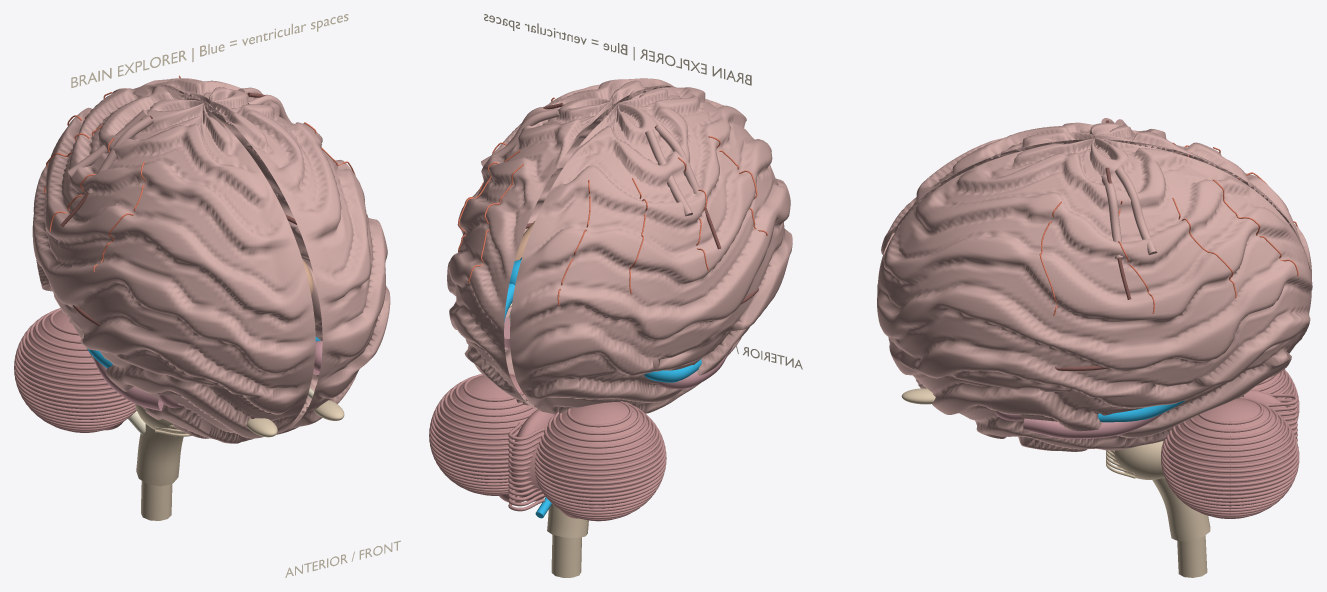
File: humanbrain.glb
3 views of the same model, side by side, from view 1: azimuth 30°, elevation 25°; view 2: azimuth 150°, elevation 25°; view 3: azimuth 270°, elevation 25° (orthographic). The views are drawn at different scales.
Parts seen in each view (by area): view 1: Left cortical mantle, Right cortical mantle, Cerebellar hemisphere.001, Medulla oblongata, BRAIN EXPLORER | Blue = ventricular spaces, Spinal cord, Hippocampus, Precentral gyrus, Postcentral gyrus, ANTERIOR / FRONT; view 2: Left cortical mantle, Right cortical mantle, Cerebellar hemisphere.001, Cerebellar hemisphere, Cerebellar vermis, BRAIN EXPLORER | Blue = ventricular spaces, Spinal cord, Medulla oblongata, Postcentral gyrus, Postcentral gyrus.001, Precentral gyrus, Inferior temporal horn (+14 smaller); view 3: Right cortical mantle, Left cortical mantle, Cerebellar hemisphere, Medulla oblongata, Hippocampus.001, Pons, Spinal cord, Postcentral gyrus.001, Inferior temporal horn.001, Precentral gyrus.001, Cerebellar folium.037, Cerebellar folium.036.
Part boxes in pixels (box(x1,y1,x2,y2)): Left cortical mantle: box(32, 85, 315, 443); Right cortical mantle: box(140, 78, 390, 434); Cerebellar hemisphere.001: box(20, 310, 129, 419); Medulla oblongata: box(136, 424, 183, 486); BRAIN EXPLORER | Blue = ventricular spaces: box(71, 14, 348, 87); Spinal cord: box(141, 481, 172, 520); Hippocampus: box(92, 355, 163, 410); Precentral gyrus: box(87, 115, 153, 193); Postcentral gyrus: box(67, 109, 147, 177); ANTERIOR / FRONT: box(285, 540, 400, 577); Left cortical mantle: box(510, 87, 792, 414); Right cortical mantle: box(447, 78, 676, 409); Cerebellar hemisphere.001: box(538, 402, 660, 508); Cerebellar hemisphere: box(434, 375, 536, 483); Cerebellar vermis: box(510, 409, 553, 501); BRAIN EXPLORER | Blue = ventricular spaces: box(484, 14, 751, 85); Spinal cord: box(551, 534, 581, 577); Medulla oblongata: box(547, 504, 588, 537); Postcentral gyrus: box(645, 129, 692, 216); Postcentral gyrus.001: box(481, 107, 559, 166); Precentral gyrus: box(655, 124, 706, 207); Inferior temporal horn: box(644, 359, 701, 382); Right cortical mantle: box(877, 138, 1312, 451); Left cortical mantle: box(877, 122, 1311, 292); Cerebellar hemisphere: box(1165, 398, 1294, 509); Medulla oblongata: box(1152, 477, 1210, 541); Hippocampus.001: box(1023, 412, 1163, 438); Pons: box(1110, 441, 1164, 479); Spinal cord: box(1177, 535, 1207, 577); Postcentral gyrus.001: box(1115, 167, 1157, 254); Inferior temporal horn.001: box(1098, 400, 1185, 422); Precentral gyrus.001: box(1101, 174, 1122, 259); Cerebellar folium.037: box(1162, 439, 1297, 472); Cerebellar folium.036: box(1161, 445, 1298, 477).
Bounding box in the file's own units: 3 × 5.27 × 4.66.
